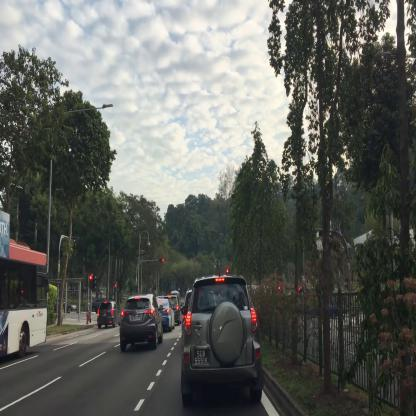red_traffic_light: (89, 274, 92, 289), (159, 258, 164, 262)
